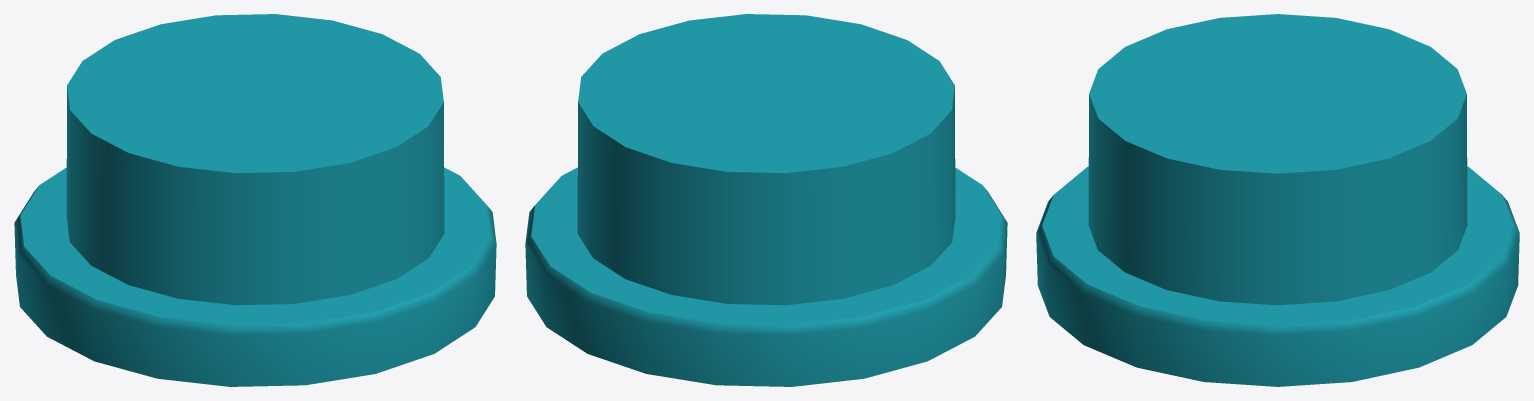
File: Blocker_B.fbx
3 renders of one model, left to right at view 1: azimuth 30°, elevation 25°; view 2: azimuth 150°, elevation 25°; view 3: azimuth 270°, elevation 25°, orthographic.
Parts seen in each view (by area): view 1: Blocker_B; view 2: Blocker_B; view 3: Blocker_B.
Boxes of the visible parts, x1,y1,x2,y2 form: Blocker_B: (14,14,496,386); Blocker_B: (525,14,1007,386); Blocker_B: (1036,14,1519,386).
Size of the model in its own units: 2.55 by 1.12 by 2.55.
